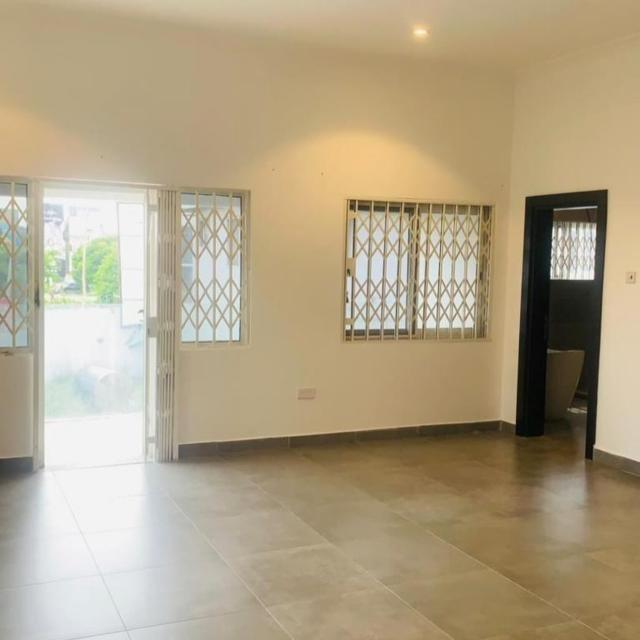OpenDoor: (26, 156, 182, 482), (514, 180, 604, 463)
